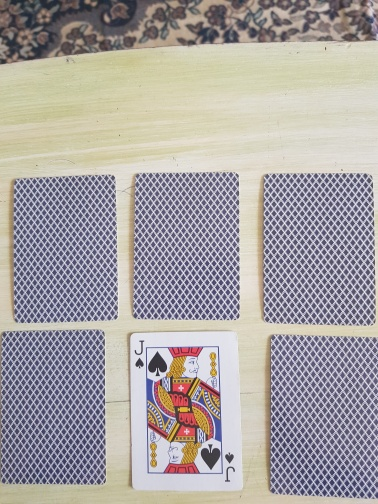jack: (128, 330, 244, 492)
